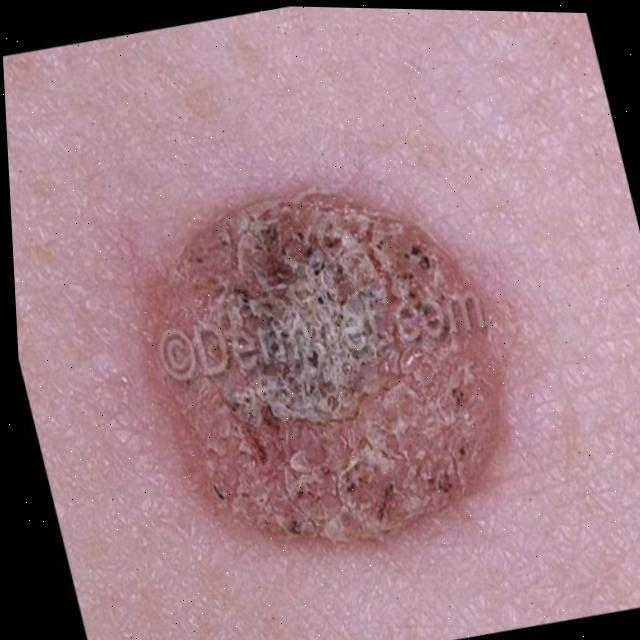Eczema: (167, 210, 450, 502)
